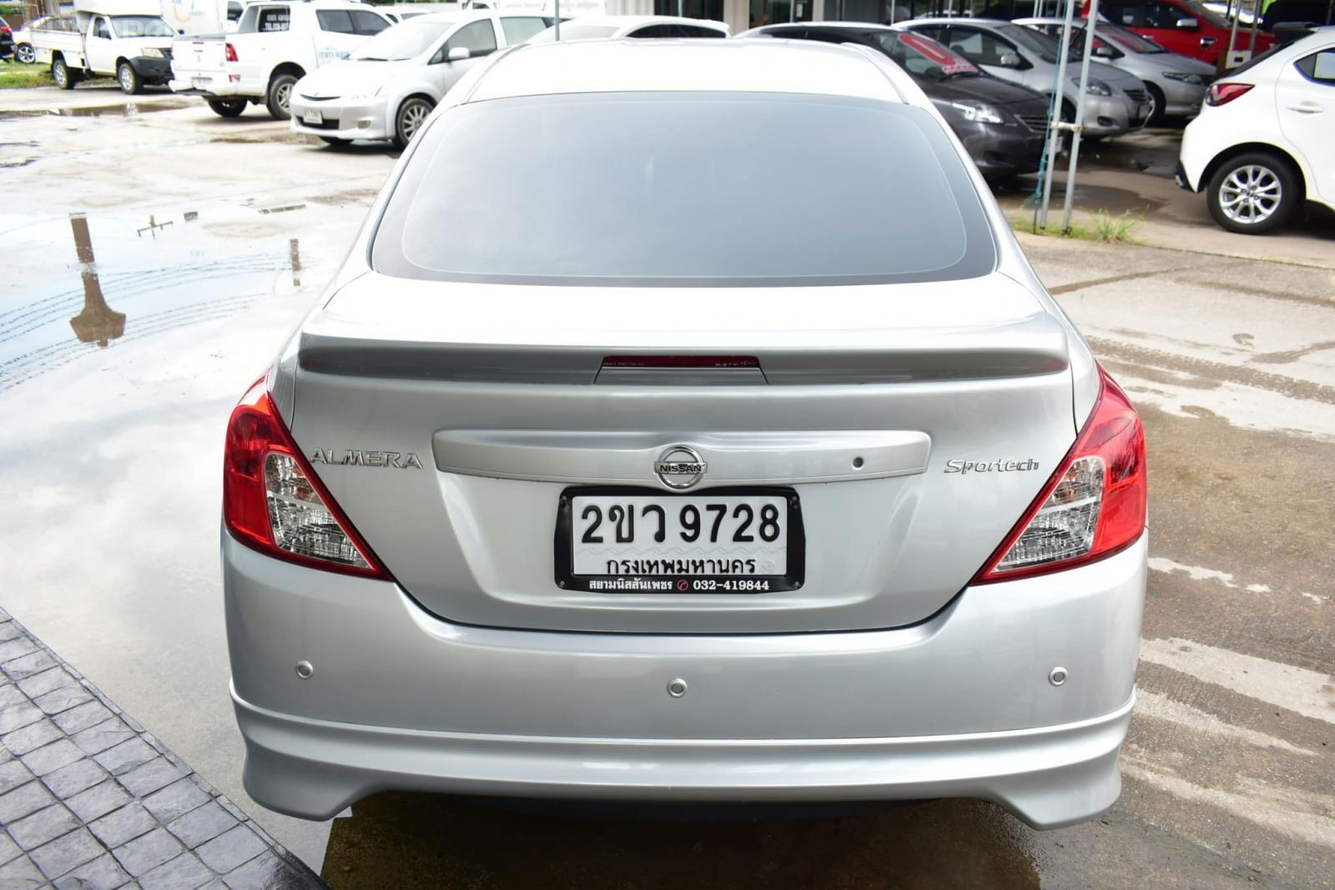license-plate: (553, 482, 805, 597), (299, 107, 328, 127), (191, 76, 209, 91)
